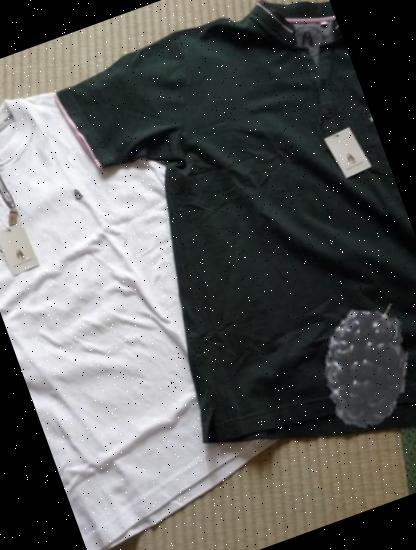Mulberry: (271, 280, 416, 450)
